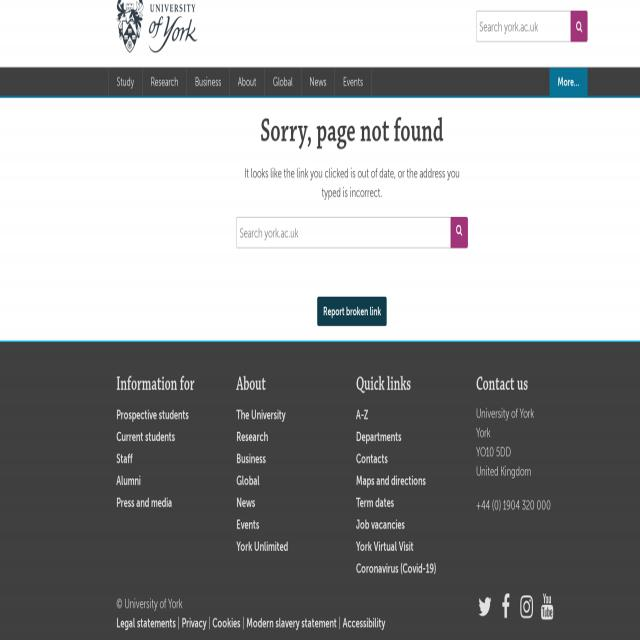button: (116, 0, 198, 52), (318, 297, 387, 326), (142, 68, 186, 96), (187, 68, 229, 96), (550, 68, 588, 96), (265, 68, 301, 96), (335, 68, 371, 96), (230, 68, 264, 96), (301, 68, 335, 96), (109, 68, 142, 96), (450, 216, 468, 249), (570, 10, 588, 43), (497, 592, 516, 620), (519, 592, 537, 620), (538, 592, 556, 620), (476, 592, 494, 620)
field: (236, 216, 451, 249), (476, 10, 570, 43)
